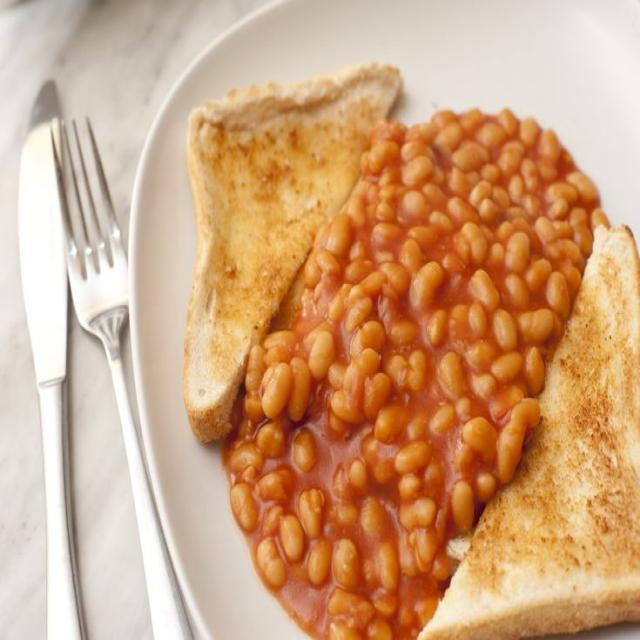sliced_bread: (420, 226, 639, 639), (184, 64, 401, 441)
